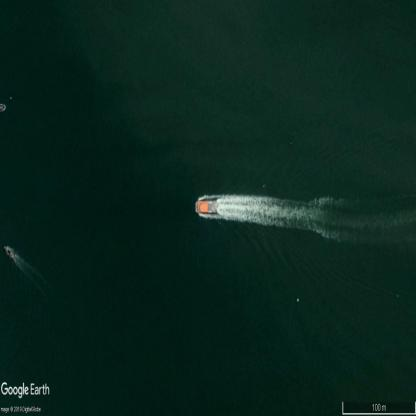ship: (196, 201, 216, 212), (4, 248, 15, 260)
